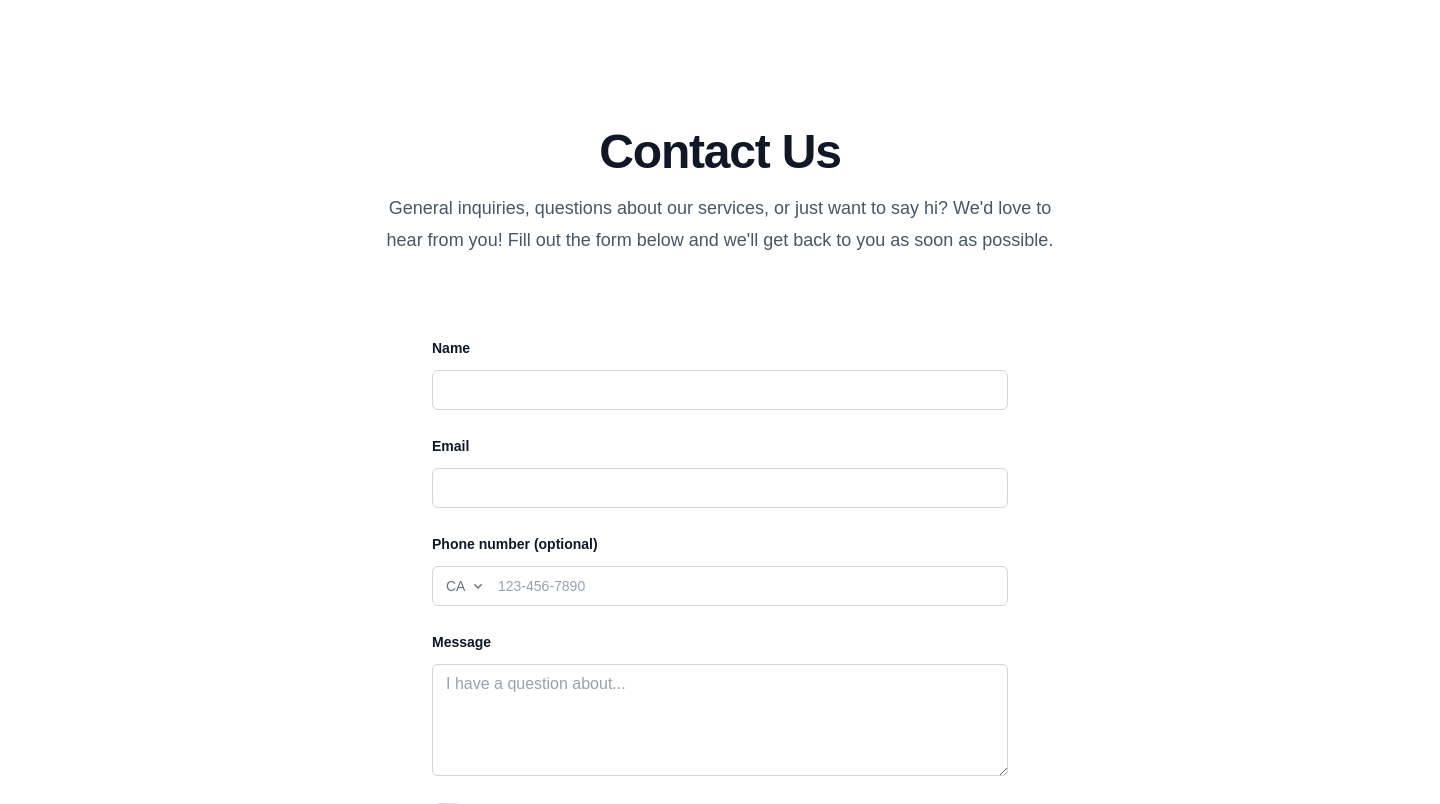
Scenario: Contact Form UI › shows success message after valid submission
In the field labelled "Name": (720, 390) 432,370 -> 1008,410, type "John Smith"
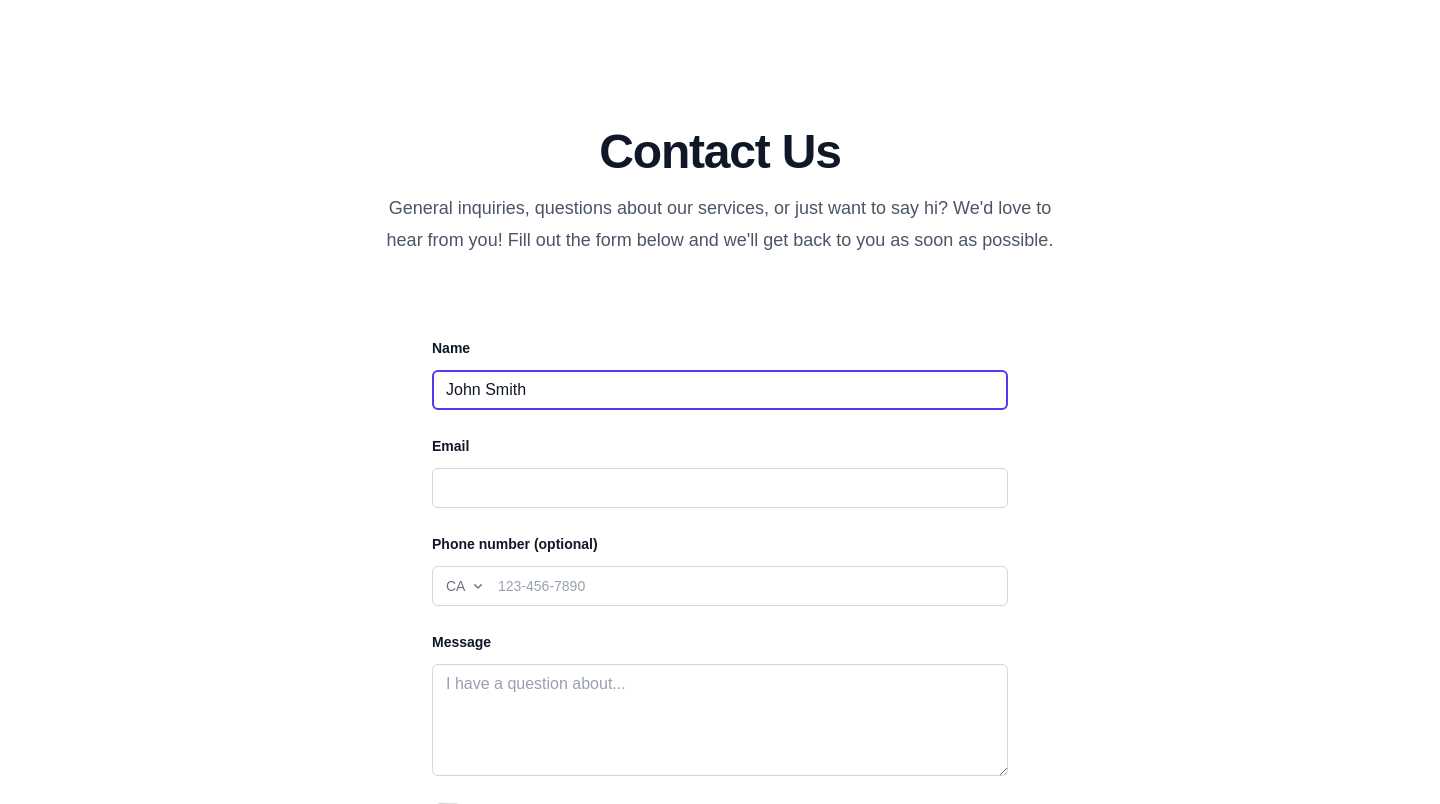
In the field labelled "Email": (720, 488) 432,468 -> 1008,508, type "john@example.com"
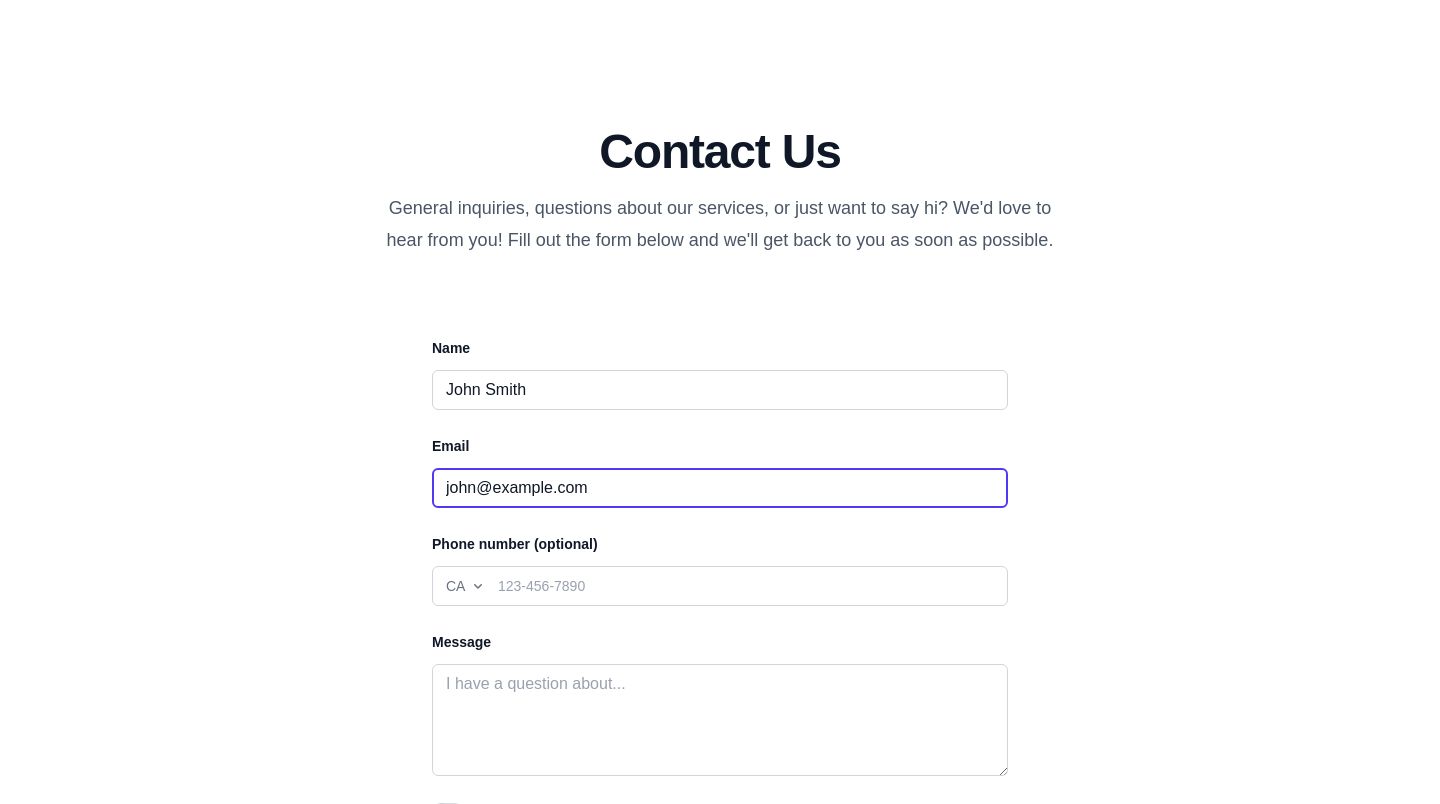
In the text box labelled "Message": (720, 720) 432,664 -> 1008,776, type "Test message"
(page scrolled)
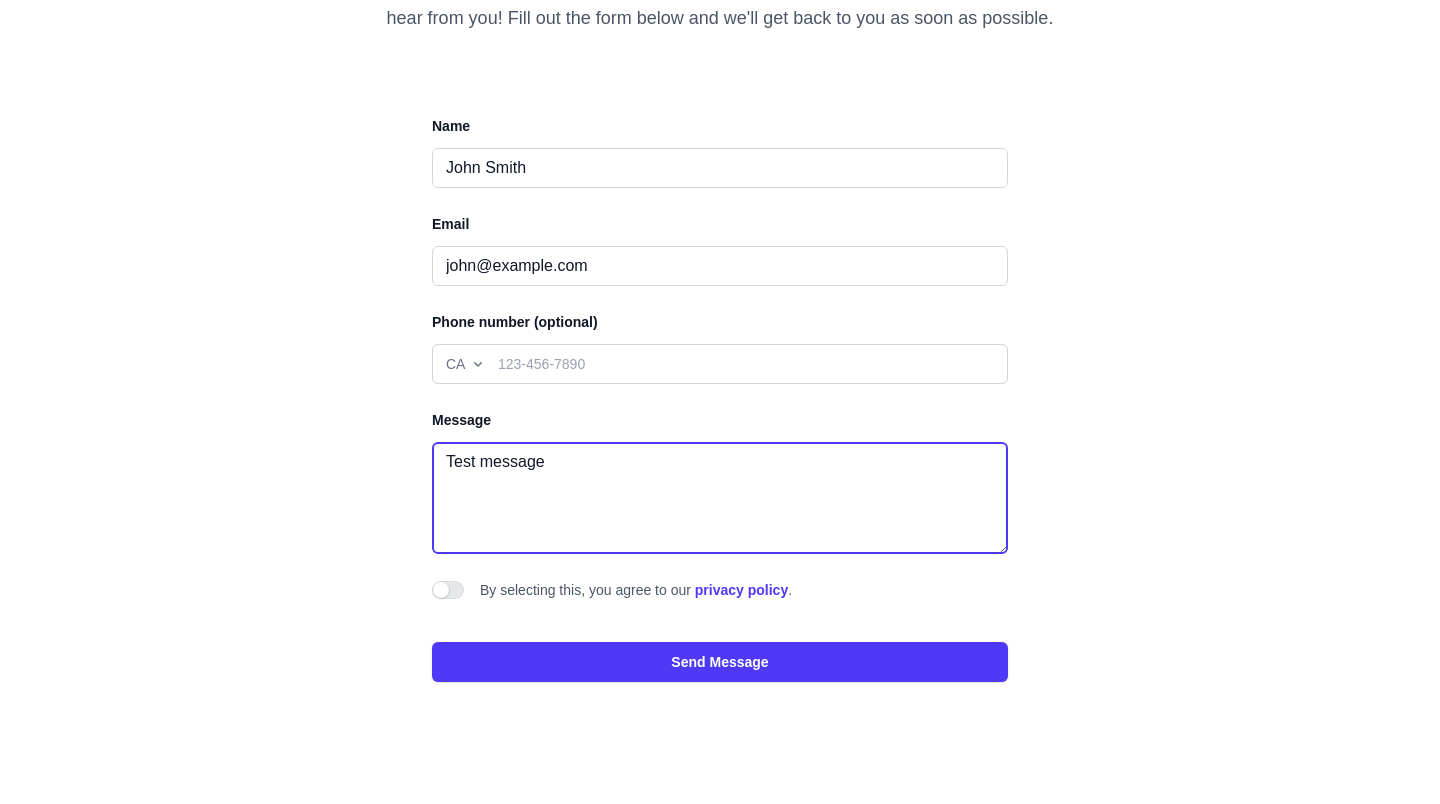
Click the button "Send Message": (720, 662) 432,642 -> 1008,682
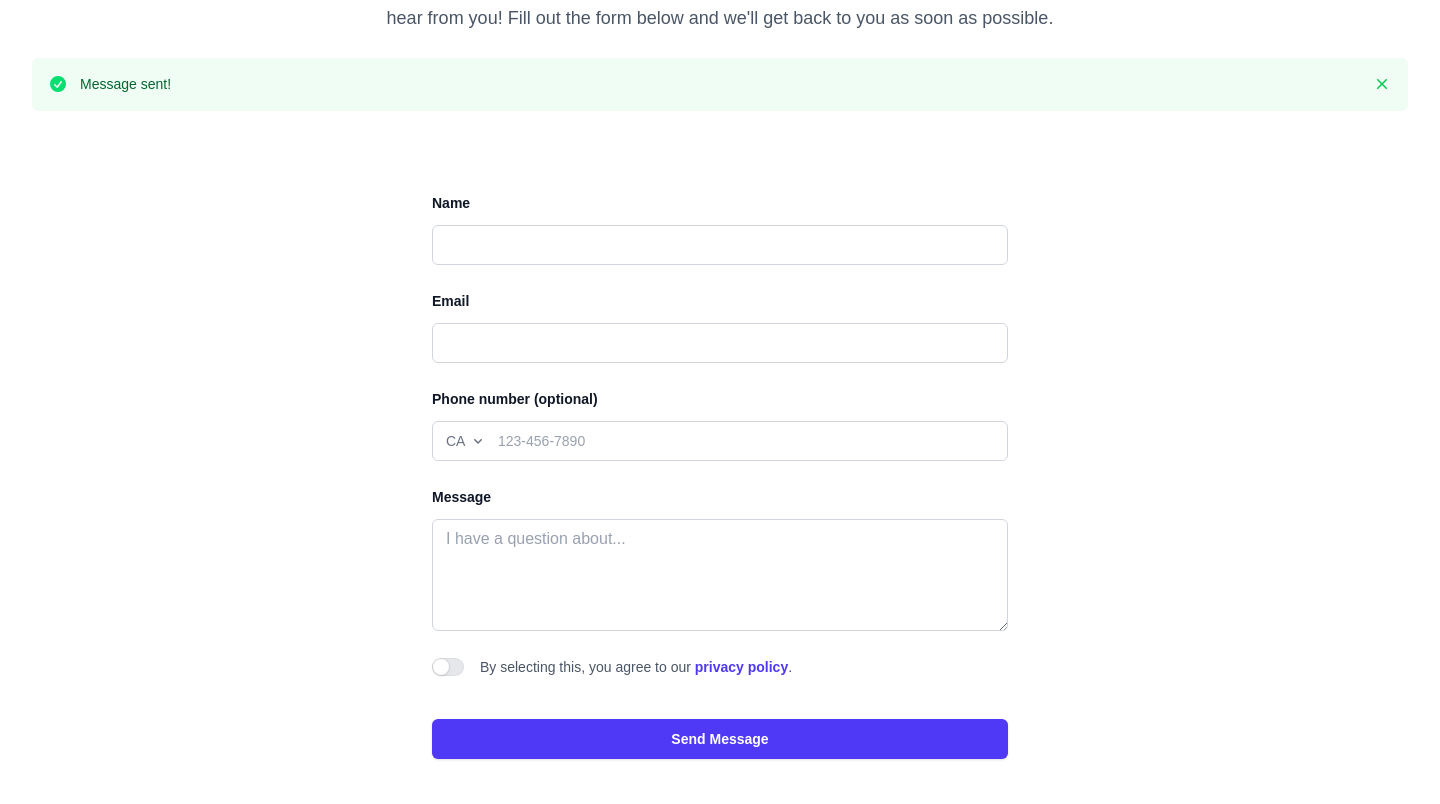
Expected: the text "Message sent!" is shown, 80,74 -> 171,94
